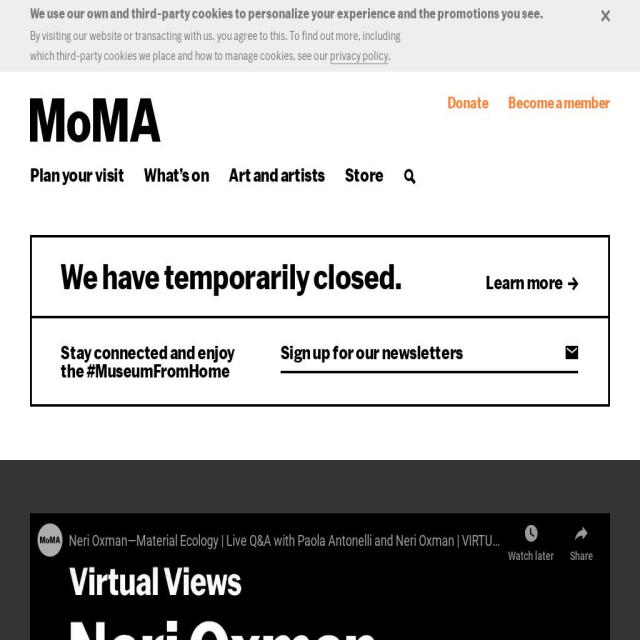button: (57, 258, 407, 296), (25, 92, 166, 149), (224, 162, 330, 188), (25, 162, 129, 188), (503, 92, 615, 115), (139, 162, 214, 188), (339, 162, 389, 188), (442, 92, 494, 115), (328, 48, 390, 64), (398, 162, 421, 192), (596, 4, 615, 28)
field: (278, 340, 563, 364)
heading: (60, 259, 402, 293), (30, 99, 161, 142)
iframe: (30, 512, 610, 640)
image: (566, 274, 580, 294), (565, 344, 578, 362), (403, 168, 416, 185), (601, 10, 610, 22)
text: (30, 28, 401, 62), (30, 0, 543, 18), (61, 358, 230, 381), (61, 340, 236, 362), (229, 162, 325, 186), (30, 162, 124, 186), (508, 92, 610, 112), (144, 158, 209, 182), (344, 158, 384, 182), (486, 271, 528, 293), (447, 92, 489, 112), (526, 271, 563, 293), (388, 48, 391, 62)
